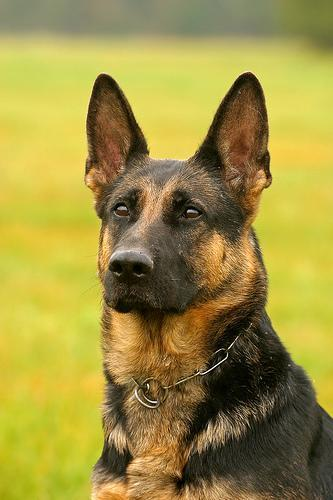German_shepherd: (85, 71, 331, 498)
